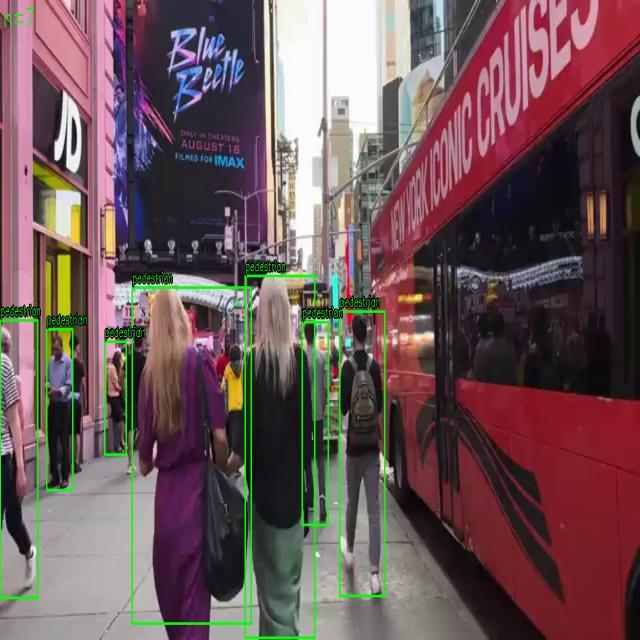with scooter: (132, 287, 252, 624), (245, 276, 315, 638), (340, 311, 384, 597), (0, 320, 38, 598), (302, 322, 328, 526), (46, 329, 74, 491), (105, 341, 126, 455)
